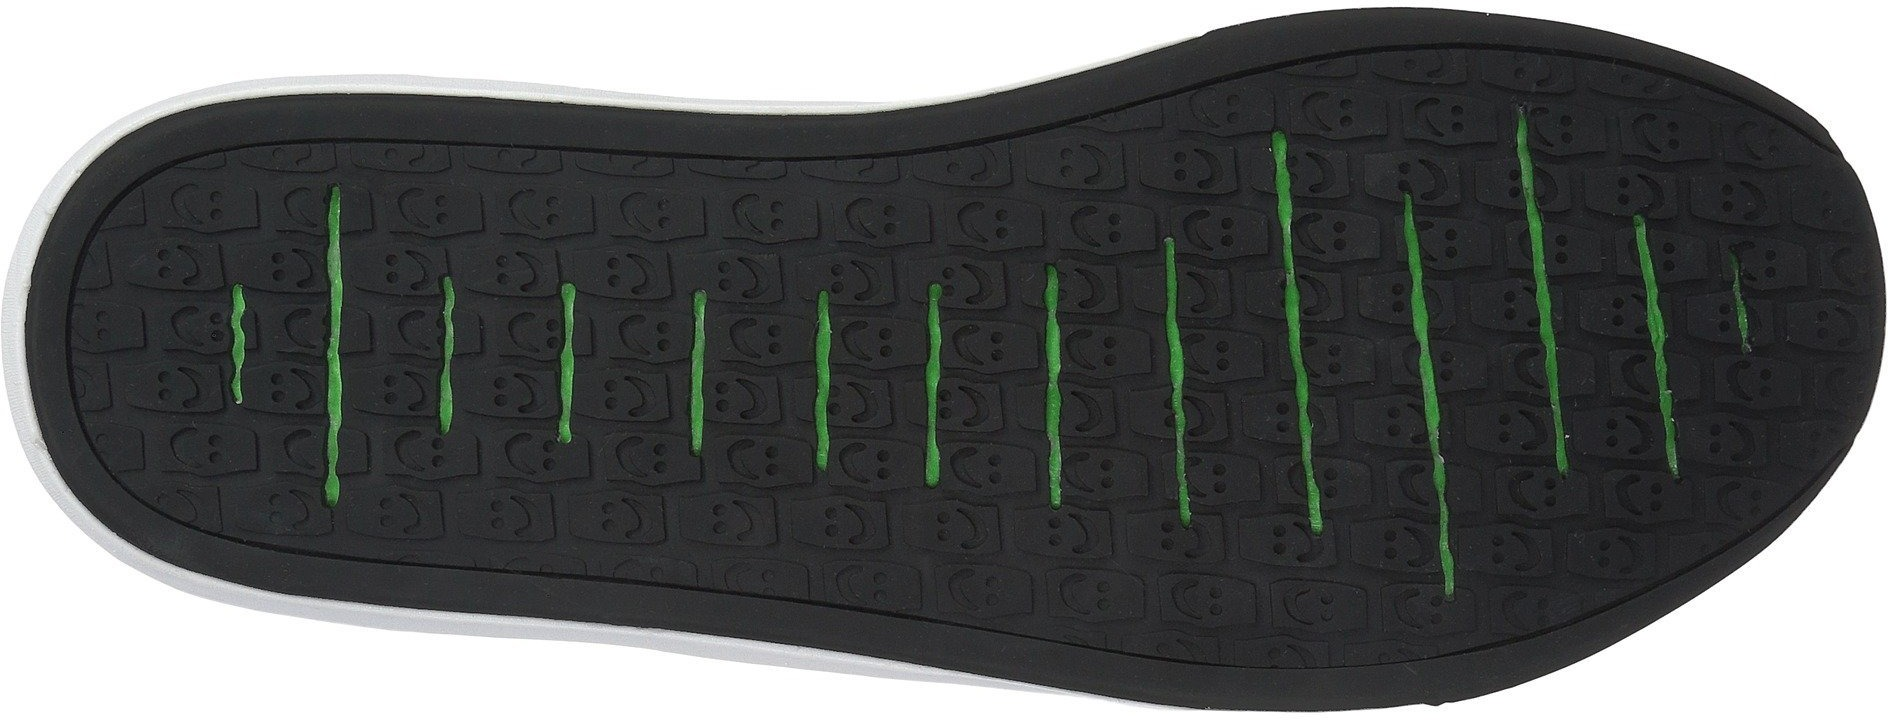circle: (287, 177, 486, 535), (1250, 125, 1355, 567), (1480, 98, 1592, 497), (983, 193, 1025, 255), (591, 250, 635, 297)
line: (287, 177, 486, 535), (1250, 125, 1355, 567), (1480, 98, 1592, 497)
